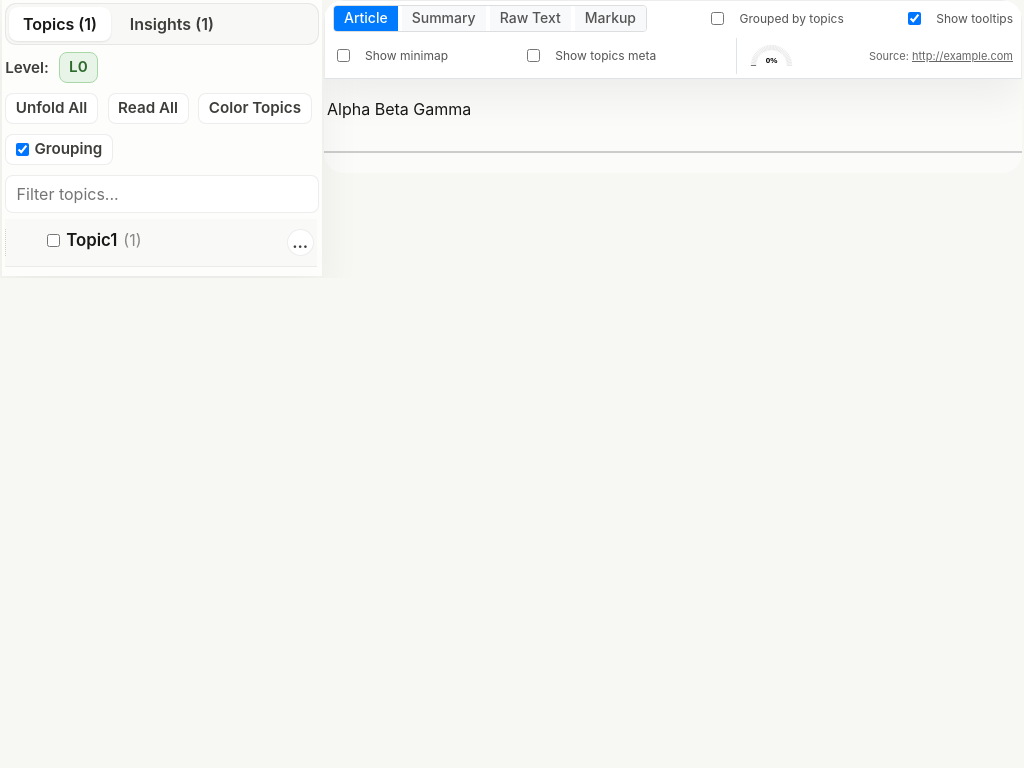
Test: TextPage raw text navigation › opens topic summaries from the article tooltip without selecting the topic
The width and height of the screenshot is (1024, 768).
Expected: the text "Source:" is shown, [869,49,909,63]
Expected: the 6th checkbox is not checked, [47,234,60,247]
Click the text "Alpha Beta Gamma". click: [399, 109]
box: [327,99,471,119]
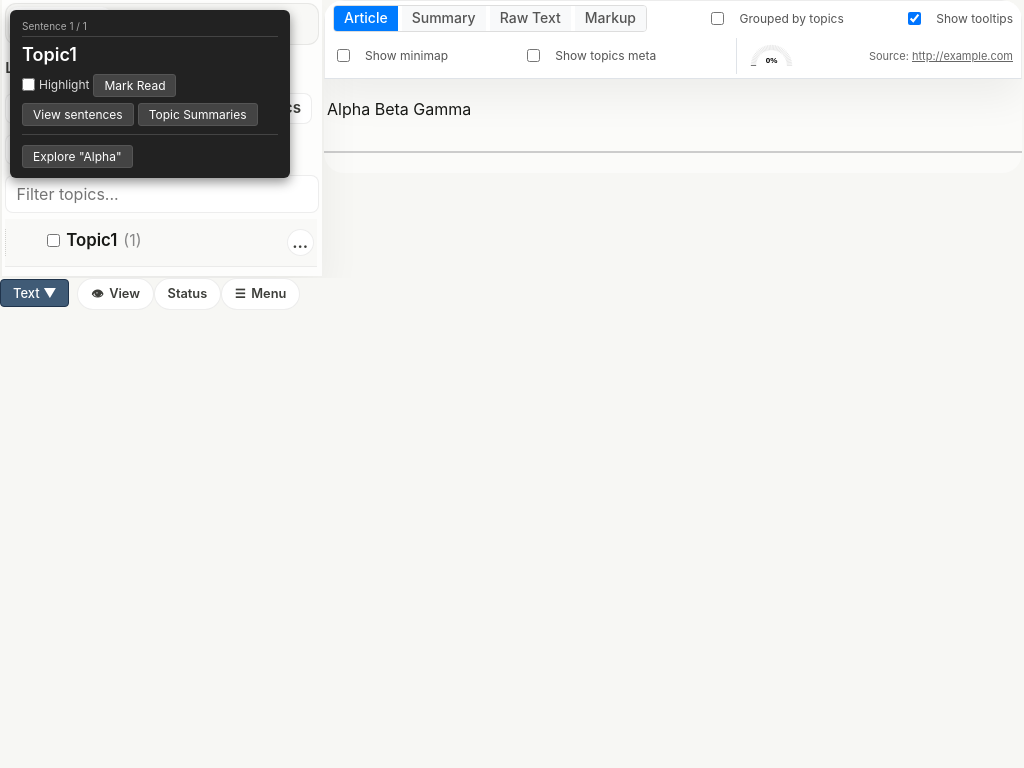
Click the button "Topic Summaries". click: [198, 115]
box: [138,103,258,126]
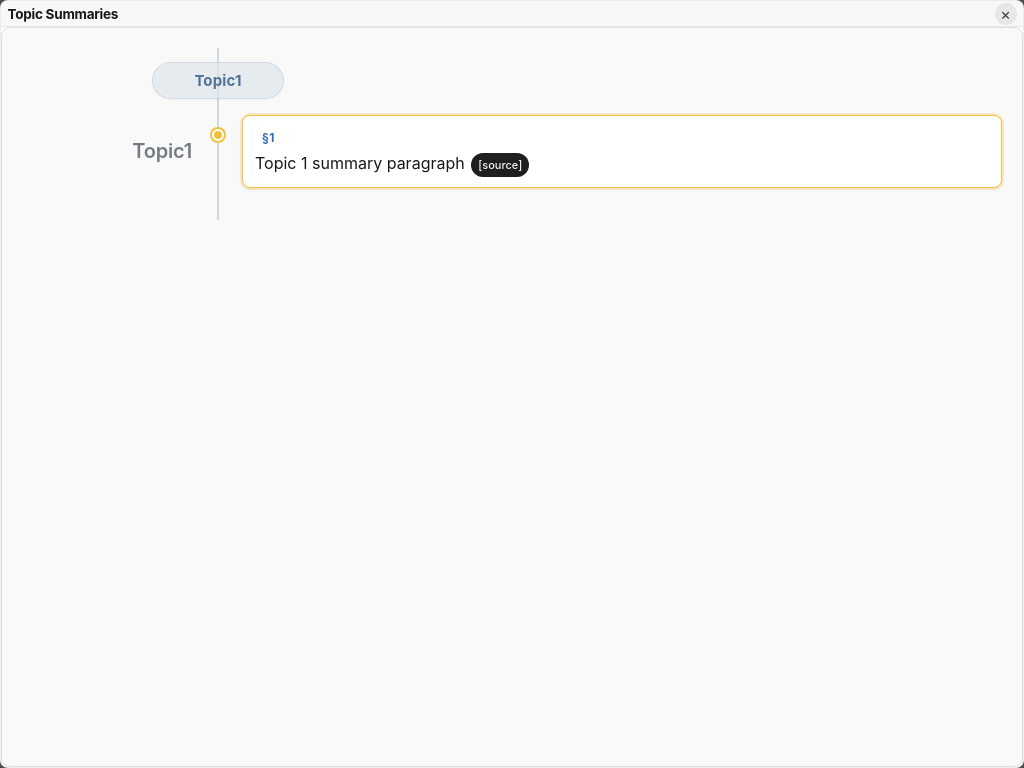
Now the text "Topic 1 summary paragraph" is shown, box [255,153,465,173]
